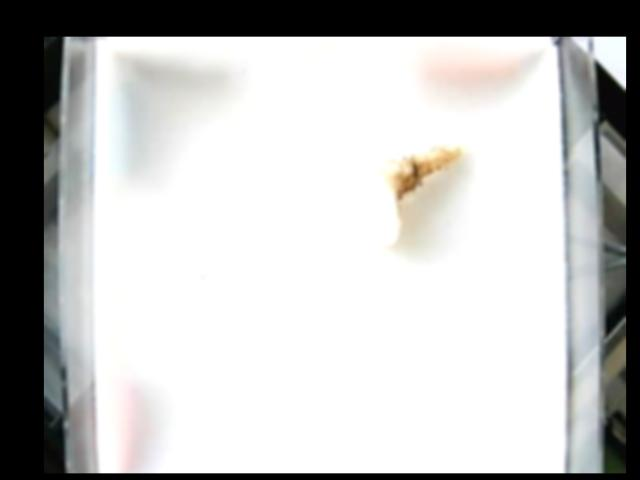Mooli: (336, 142, 469, 248)
